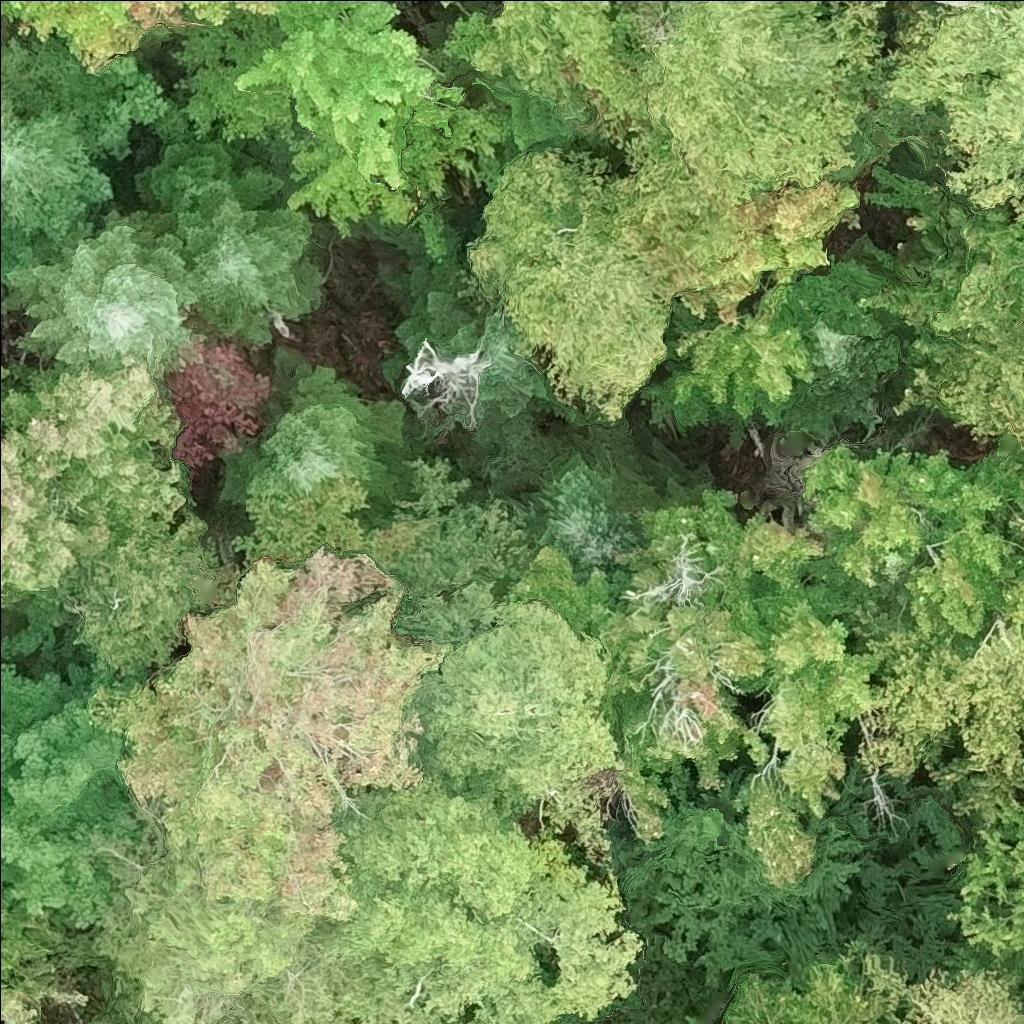crown: (88, 544, 444, 923), (311, 779, 649, 1023), (578, 490, 774, 840), (182, 0, 442, 244), (398, 577, 623, 856), (626, 0, 891, 232), (465, 144, 678, 427), (730, 509, 887, 892), (375, 253, 586, 487), (644, 253, 902, 442), (0, 660, 165, 937), (802, 444, 1023, 649), (134, 121, 326, 347), (90, 859, 344, 1023), (846, 597, 1023, 827), (213, 345, 420, 524), (0, 204, 203, 374), (878, 0, 1023, 221), (645, 180, 863, 325), (21, 359, 187, 531), (0, 39, 126, 260), (469, 0, 652, 151), (0, 389, 123, 602), (0, 0, 279, 78), (522, 435, 667, 578), (161, 297, 274, 467), (775, 308, 904, 443), (896, 319, 1023, 445), (718, 938, 900, 1023), (943, 798, 1023, 973), (860, 949, 1023, 1023), (0, 908, 99, 1023), (503, 544, 620, 634), (397, 337, 492, 432), (626, 440, 719, 507), (94, 1012, 139, 1023), (1014, 514, 1023, 547), (435, 0, 447, 9)
